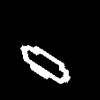chain: (21, 45, 69, 82)
